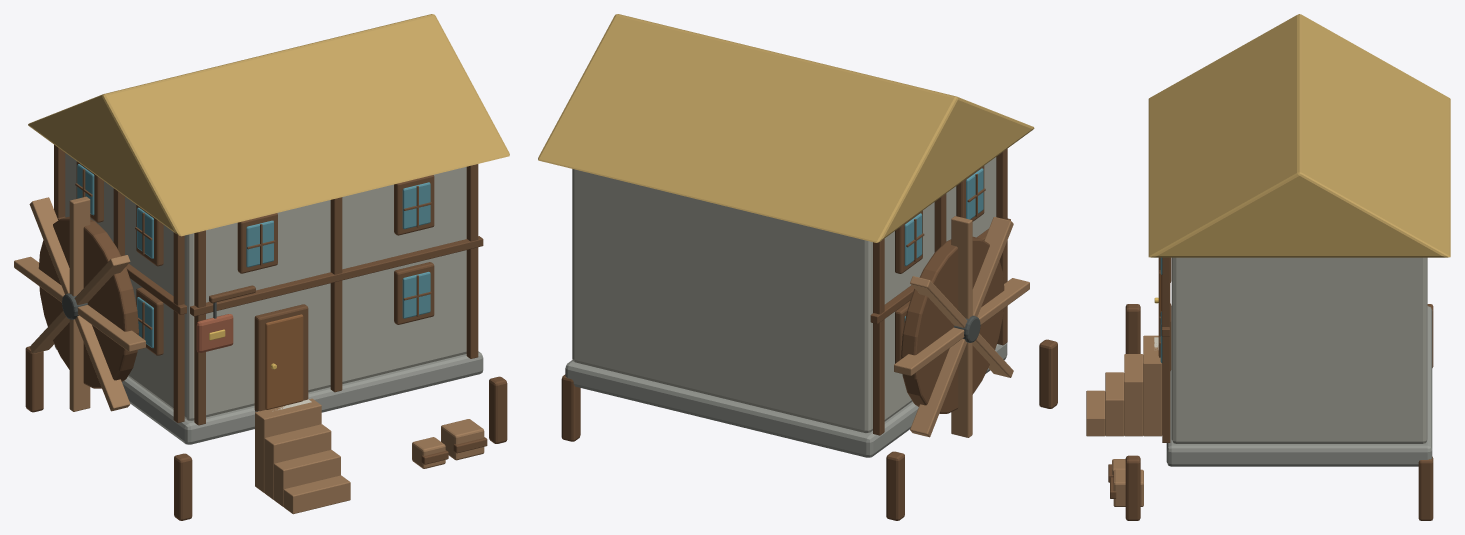
The model's file is wetland-mill-0.glb.
The picture shows the model from 3 angles, left to right: view 1: azimuth 30°, elevation 25°; view 2: azimuth 150°, elevation 25°; view 3: azimuth 270°, elevation 25°; orthographic projection. The views are drawn at different scales.
Visible parts, largest first — view 1: Golden thatch, Fieldstone, Dark beams, Aged oak, Foundation stone, Blue glass, Door oak, Painted sign; view 2: Golden thatch, Fieldstone, Dark beams, Aged oak, Foundation stone, Blue glass; view 3: Golden thatch, Fieldstone, Foundation stone, Aged oak, Dark beams.
Part boxes in pixels (box(x1,y1,x2,y2)): Golden thatch: box(28, 14, 509, 236); Fieldstone: box(65, 153, 466, 420); Dark beams: box(25, 144, 507, 520); Aged oak: box(14, 196, 484, 514); Foundation stone: box(54, 344, 483, 444); Blue glass: box(77, 164, 430, 348); Door oak: box(265, 314, 303, 409); Painted sign: box(196, 314, 233, 352); Golden thatch: box(538, 14, 1034, 242); Fieldstone: box(572, 157, 996, 433); Dark beams: box(561, 148, 1057, 520); Aged oak: box(894, 216, 1029, 437); Foundation stone: box(565, 343, 1007, 457); Blue glass: box(904, 168, 983, 322); Golden thatch: box(1148, 14, 1450, 257); Fieldstone: box(1171, 257, 1427, 443); Foundation stone: box(1166, 306, 1432, 466); Aged oak: box(1086, 335, 1162, 506); Dark beams: box(1108, 257, 1433, 520).
Bounding box in the file's own units: 4.95 × 4.76 × 4.42.
